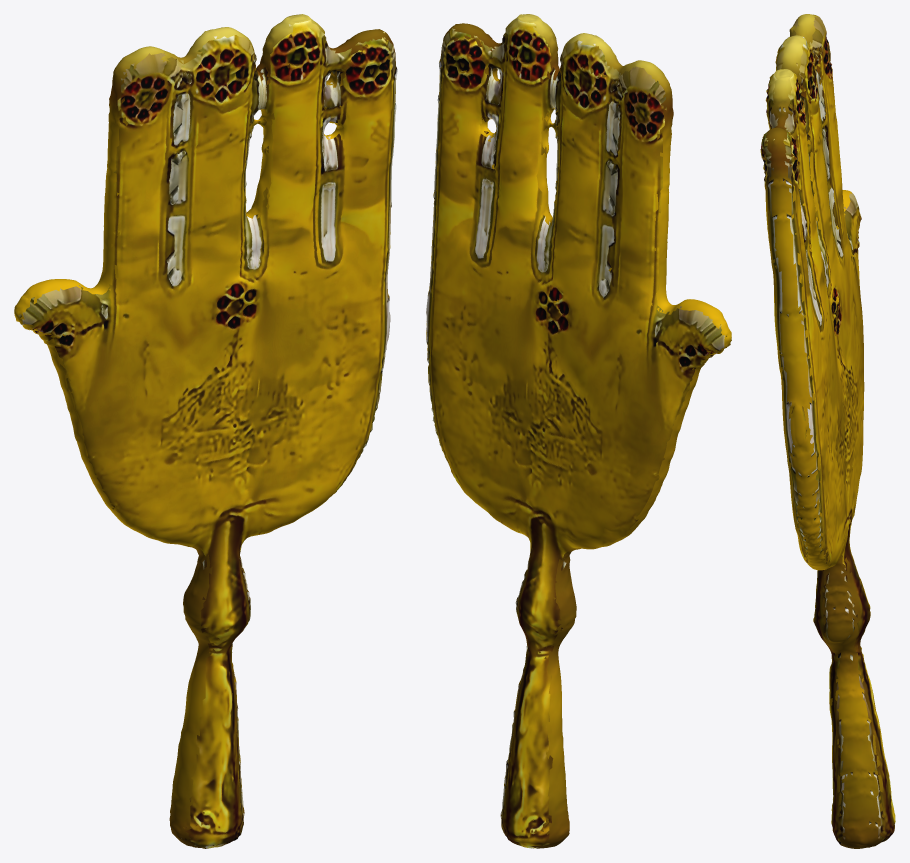
File: kfl-2145.glb
3 renders of one model, left to right at view 1: azimuth 30°, elevation 25°; view 2: azimuth 150°, elevation 25°; view 3: azimuth 270°, elevation 25°, orthographic. The views are drawn at different scales.
Visible parts, largest first — view 1: kfl-2145; view 2: kfl-2145; view 3: kfl-2145.
Boxes of the visible parts, x1,y1,x2,y2 form: kfl-2145: (14,14,397,848); kfl-2145: (426,14,731,848); kfl-2145: (760,14,895,848).
Bounding box in the file's own units: 0.4264 × 0.9917 × 0.1528.
Materials: 4 (4 with a texture image).
